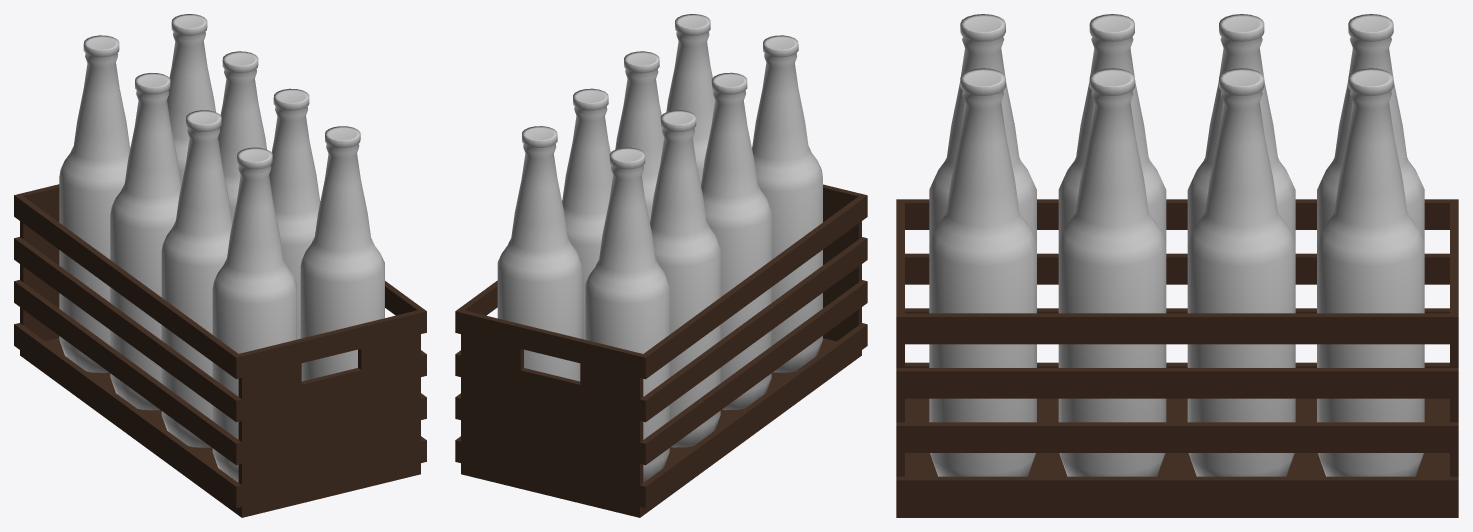
The model's file is Caixotinho.fbx.
The picture shows the model from 3 angles, left to right: view 1: azimuth 30°, elevation 25°; view 2: azimuth 150°, elevation 25°; view 3: azimuth 270°, elevation 25°; orthographic projection. The views are drawn at different scales.
Parts seen in each view (by area): view 1: Cubo, Cilindro, Cilindro.001; view 2: Cubo, Cilindro, Cilindro.001; view 3: Cilindro.001, Cubo, Cilindro.
Part boxes in pixels (x1,y1,x2,y2): Cubo: [14, 184, 426, 517]; Cilindro: [59, 35, 296, 482]; Cilindro.001: [167, 14, 384, 381]; Cubo: [455, 184, 867, 517]; Cilindro: [585, 35, 822, 482]; Cilindro.001: [497, 14, 715, 381]; Cilindro.001: [929, 68, 1424, 476]; Cubo: [896, 199, 1458, 517]; Cilindro: [929, 14, 1424, 243].
Size of the model in its own units: 331 by 542 by 668.
